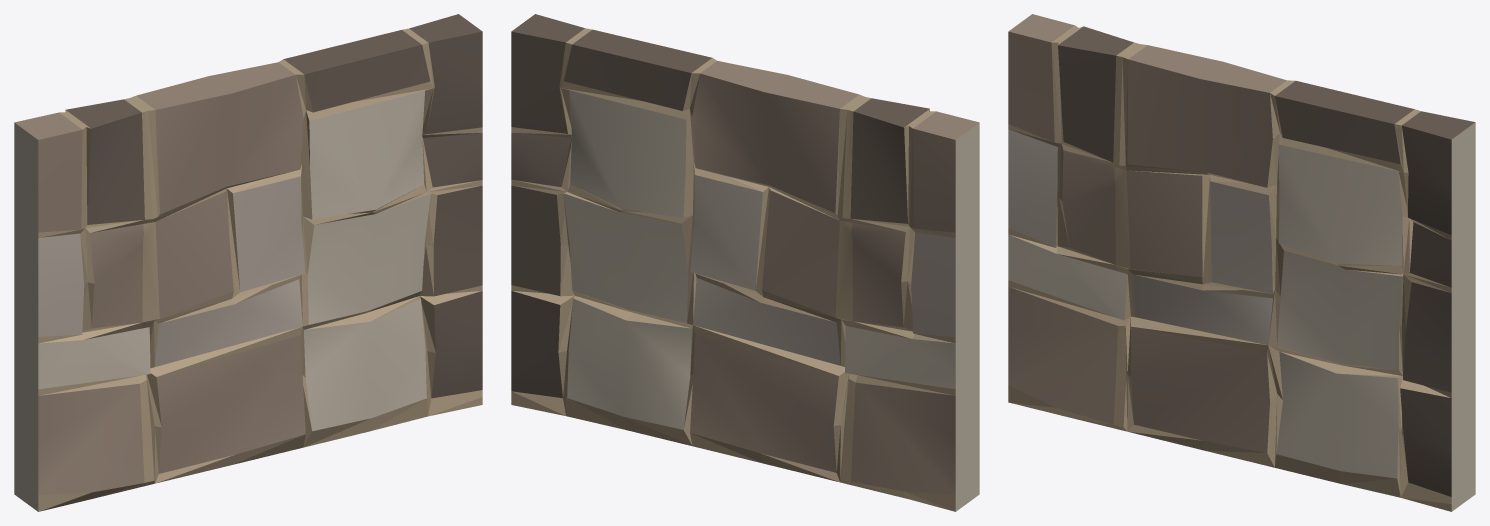
The model's file is RG-Dungeon_Wall-04.fbx.
The picture shows the model from 3 angles, left to right: view 1: azimuth 30°, elevation 25°; view 2: azimuth 150°, elevation 25°; view 3: azimuth 330°, elevation 25°; orthographic projection.
Visible parts, largest first — view 1: RG-Dungeon_Wall-04; view 2: RG-Dungeon_Wall-04; view 3: RG-Dungeon_Wall-04.
Boxes of the visible parts, x1=… form: RG-Dungeon_Wall-04: x1=14, y1=14, x2=482, y2=511; RG-Dungeon_Wall-04: x1=511, y1=14, x2=979, y2=511; RG-Dungeon_Wall-04: x1=1008, y1=14, x2=1475, y2=511.
Bounding box in the file's own units: 20 × 16.05 × 2.35.
